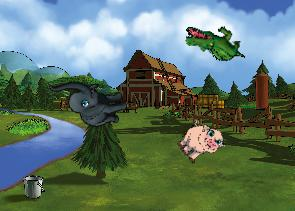crocodile: (184, 24, 245, 62)
elephant: (48, 64, 131, 138)
pig: (172, 114, 228, 170)
